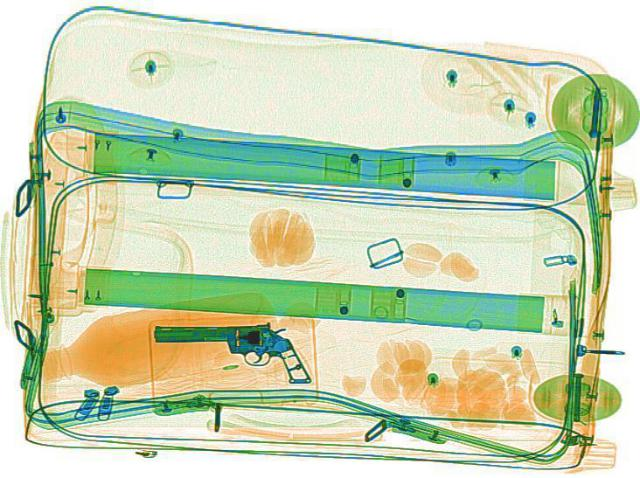Gun: (142, 314, 318, 381)
